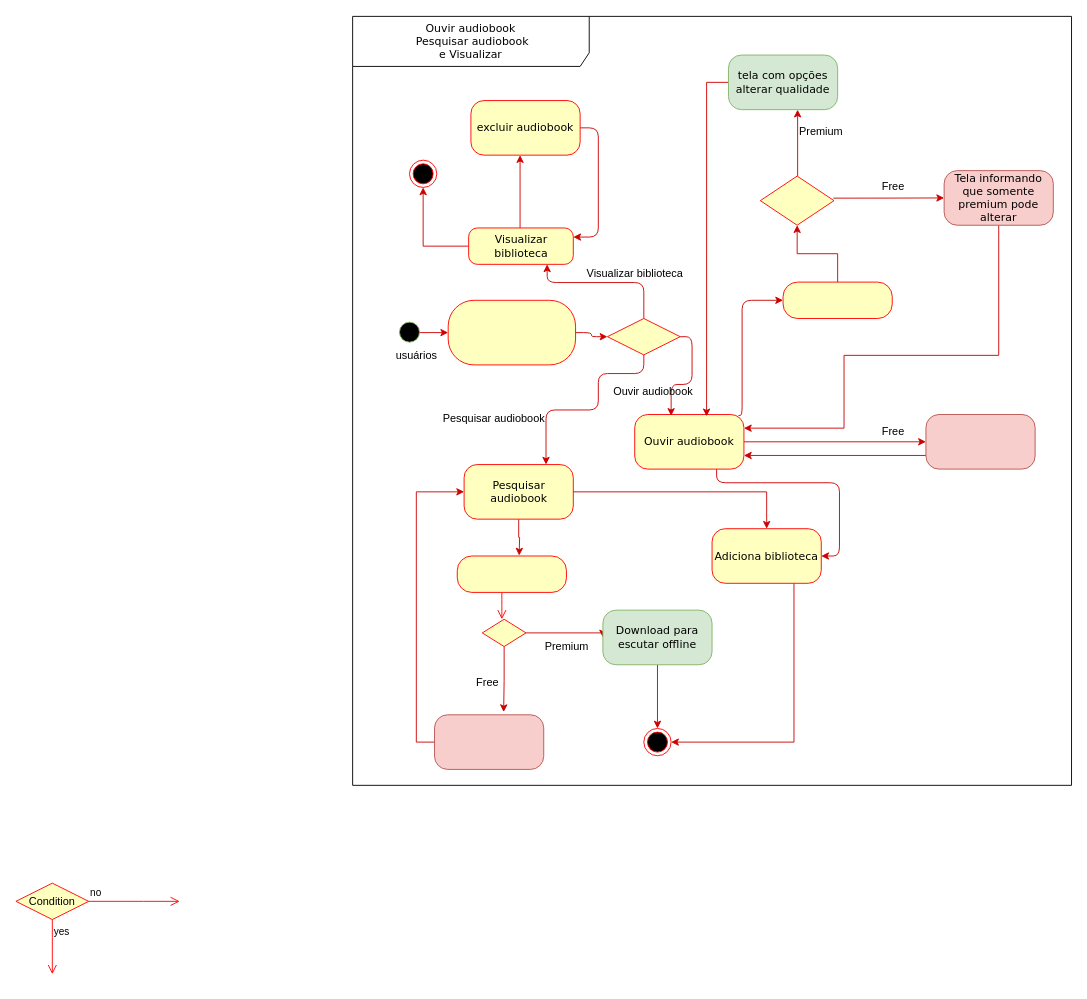
Image size: 1087x999. Some labels were removed from this diagram. Here are the shapes that lost their labels. From the top down, the box of each, then its label:
(782, 281, 892, 318): Solicita alterar a qualidade do áudio
(447, 299, 576, 365): Exibe as opções: Visualizar biblioteca Pesquisar audiobook Ouvir audiobook
(925, 414, 1035, 469): escuta anúncio entre os capítulos
(456, 555, 566, 592): Solicitar download do audiobook
(434, 714, 544, 769): Tela informando que somente premium pode fazer o download
